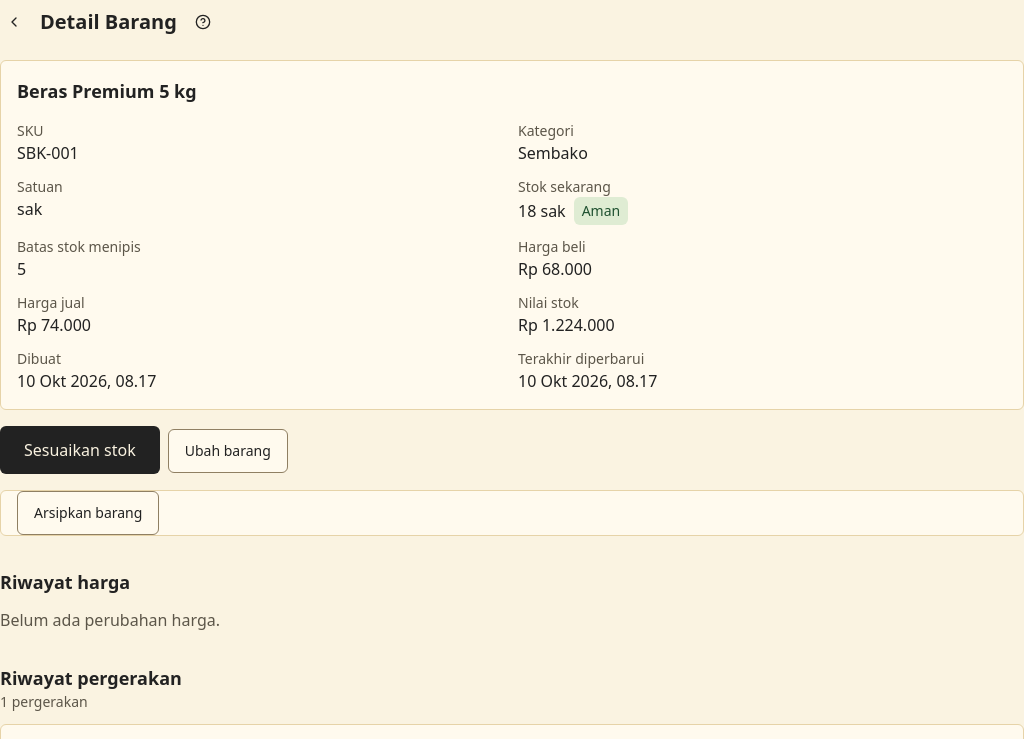
Scenario: ProductDetailPage: arsip dan riwayat harga › Arsipkan menyebut sisa stok, lalu barang berlabel Diarsipkan dan bisa dipulihkan
The image size is (1024, 739).
Click the heading "Arsipkan barang" at [88, 513], box 17,491 -> 159,535
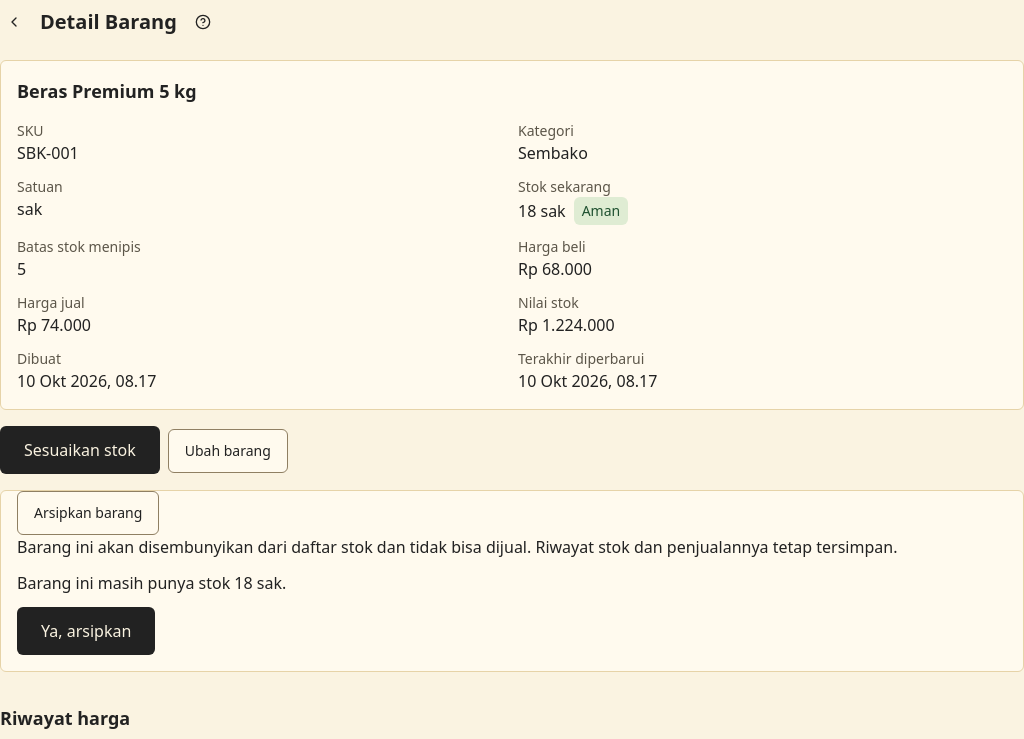
Result: the text "Barang ini masih punya stok 18 sak." is shown at 17,572 -> 286,594
Click the button "Ya, arsipkan" at [86, 631], box 17,607 -> 155,655
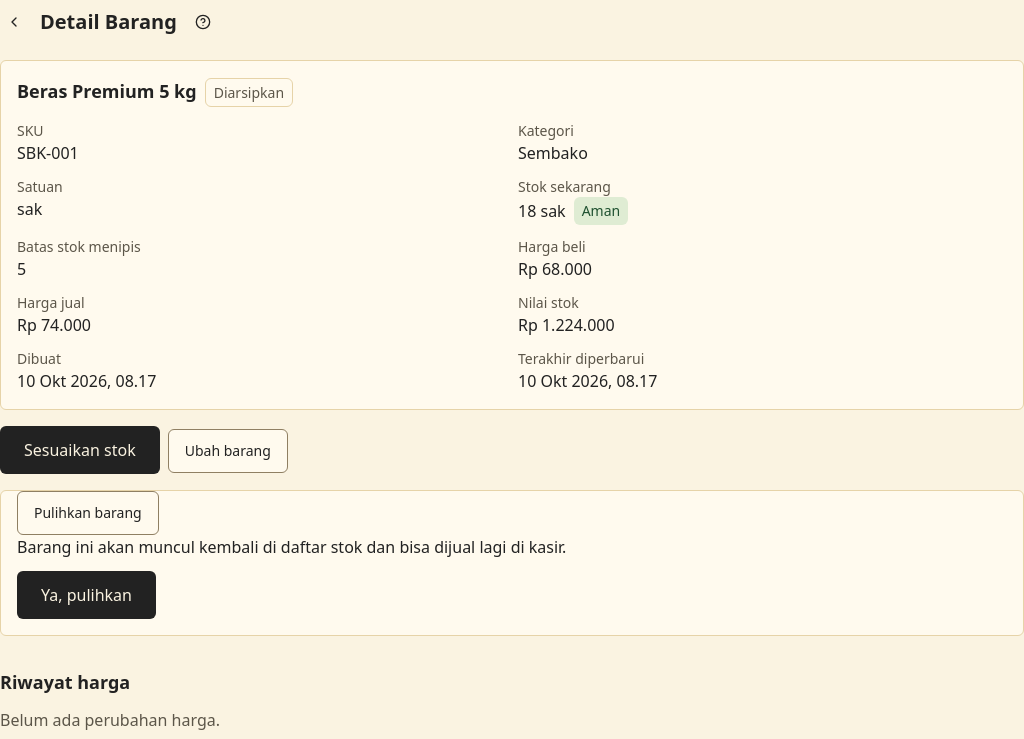
Result: the text "Diarsipkan" is shown at 205,78 -> 293,107
Result: the heading "Pulihkan barang" is shown at 17,491 -> 159,535
Click the button "Ya, pulihkan" at [86, 595], box 17,571 -> 156,619
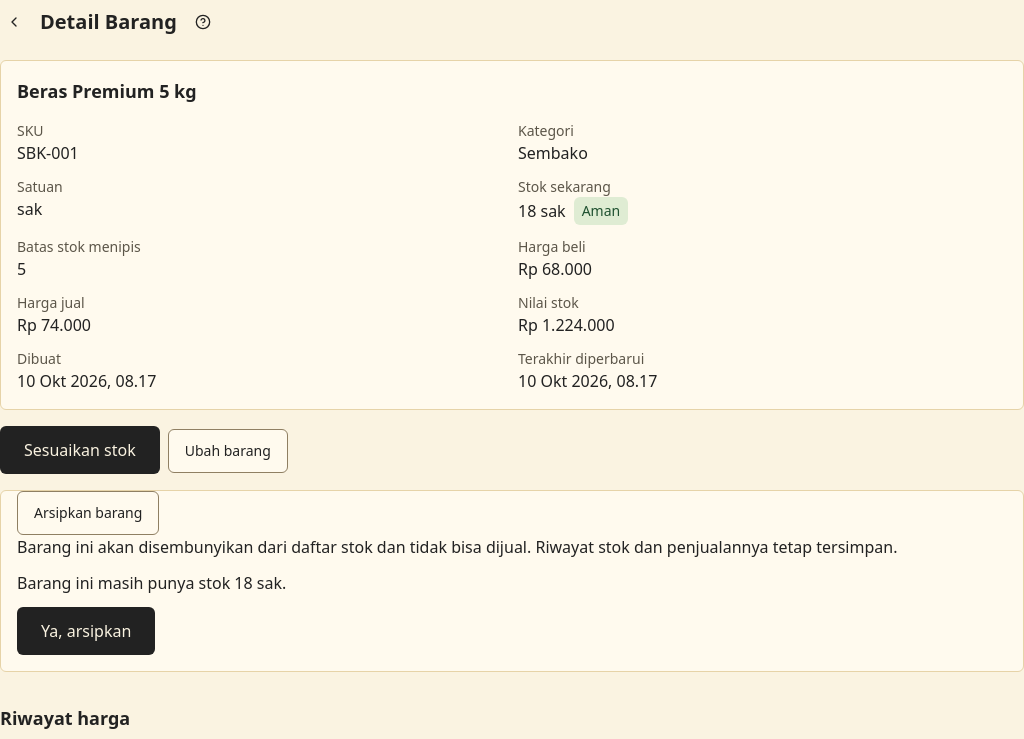
Result: the heading "Arsipkan barang" is shown at 17,491 -> 159,535
Result: the text "Diarsipkan" is gone
